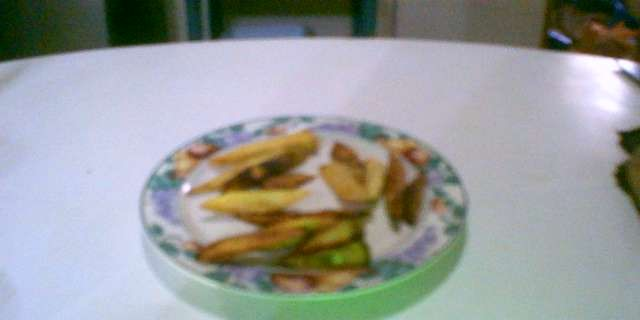potatoe_fries: (193, 127, 430, 278)
